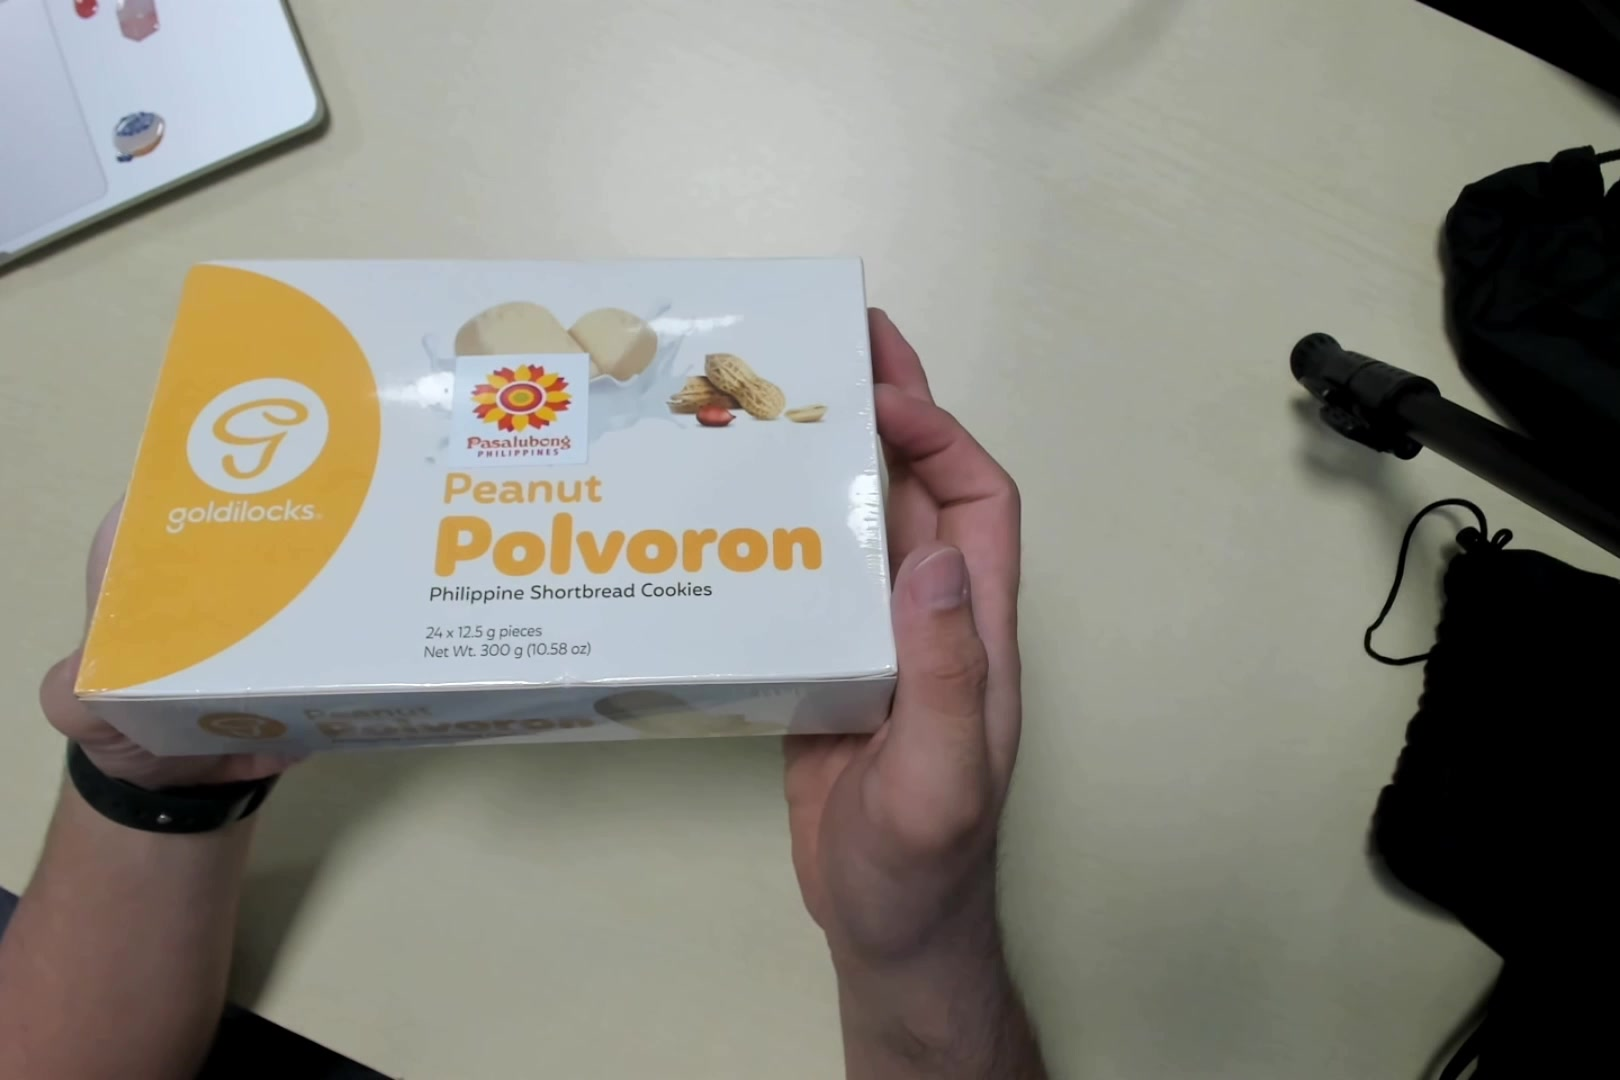SweetsChocolatesOthers_300-399g_Halal_NonHealthy: (106, 252, 900, 742)
